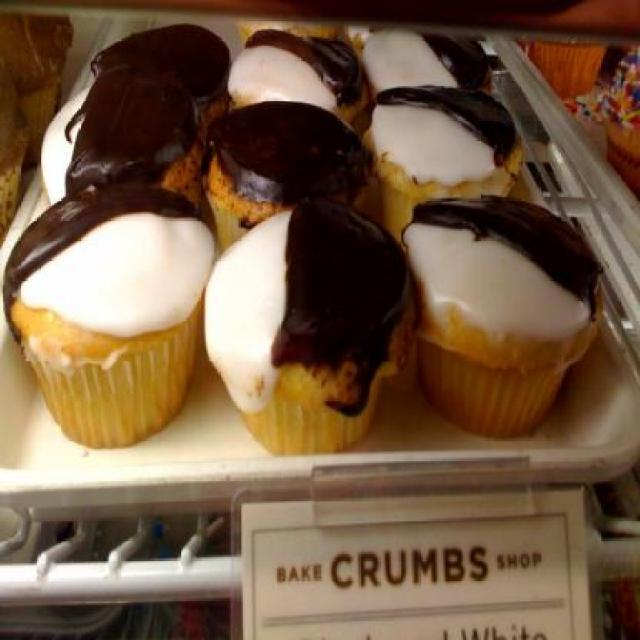Muffin: (10, 179, 218, 453), (202, 200, 412, 458), (399, 197, 601, 446), (36, 67, 215, 224), (353, 82, 516, 250), (207, 97, 365, 266), (92, 19, 240, 130), (230, 27, 374, 128), (361, 20, 492, 94)
